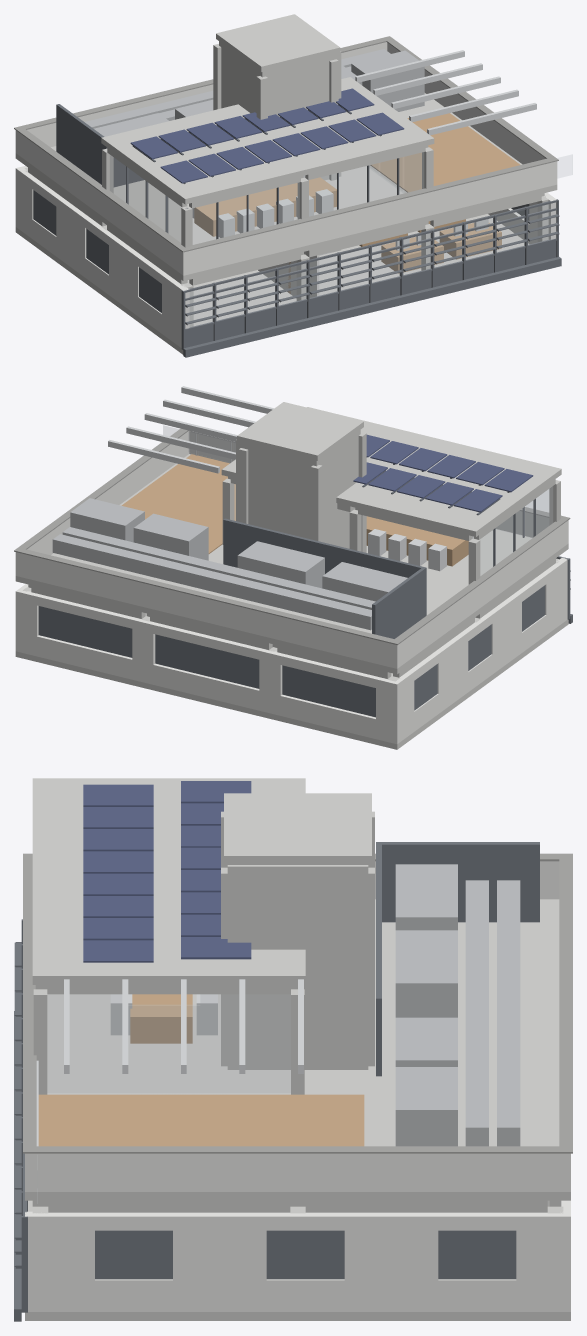
The model's file is newton-from-floor-5.glb.
3 views of the same model, one above another, from view 1: azimuth 30°, elevation 25°; view 2: azimuth 150°, elevation 25°; view 3: azimuth 270°, elevation 25° (orthographic). The views are drawn at different scales.
Parts seen in each view (by area): view 1: IFC IfcSlab 7173, IFC IfcWall 18209, IFC IfcSlab 6737, IFC IfcSlab 7097, IFC IfcCovering 43161, IFC IfcSlab 7268, IFC IfcCovering 38741, IFC IfcWall 18247, IFC IfcWall 7249, IFC IfcFurnishingElement 42914, IFC IfcWall 44168, IFC IfcCovering 18285 (+97 smaller); view 2: IFC IfcWall 18228, IFC IfcSlab 7173, IFC IfcFlowSegment 44149, IFC IfcWall 7230, IFC IfcCovering 43161, IFC IfcSlab 7268, IFC IfcWall 18247, IFC IfcSlab 7116, IFC IfcWall 44187, IFC IfcFlowSegment 44130, IFC IfcWindow 17855, IFC IfcWall 7192 (+71 smaller); view 3: IFC IfcWall 7211, IFC IfcSlab 7173, IFC IfcWall 18266, IFC IfcSlab 7116, IFC IfcCovering 43161, IFC IfcSlab 7097, IFC IfcSlab 7268, IFC IfcWall 17152, IFC IfcWall 17114, IFC IfcWall 42895, IFC IfcWall 44168, IFC IfcWall 42876 (+55 smaller).
Boxes of the visible parts, x1,y1,x2,y2 form: IFC IfcSlab 7173: (101, 77, 434, 204); IFC IfcWall 18209: (180, 161, 557, 275); IFC IfcSlab 6737: (121, 214, 529, 354); IFC IfcSlab 7097: (121, 140, 557, 280); IFC IfcCovering 43161: (370, 113, 520, 192); IFC IfcSlab 7268: (216, 14, 340, 71); IFC IfcCovering 38741: (183, 257, 561, 357); IFC IfcWall 18247: (18, 132, 180, 272); IFC IfcWall 7249: (260, 52, 341, 180); IFC IfcFurnishingElement 42914: (194, 177, 336, 236); IFC IfcWall 44168: (56, 104, 107, 184); IFC IfcCovering 18285: (178, 157, 558, 252); IFC IfcWall 18228: (15, 552, 400, 668); IFC IfcSlab 7173: (221, 407, 561, 536); IFC IfcFlowSegment 44149: (52, 534, 371, 630); IFC IfcWall 7230: (236, 441, 317, 539); IFC IfcCovering 43161: (121, 454, 235, 553); IFC IfcSlab 7268: (237, 402, 363, 460); IFC IfcWall 18247: (400, 523, 565, 666); IFC IfcSlab 7116: (15, 553, 460, 674); IFC IfcWall 44187: (223, 518, 426, 614); IFC IfcFlowSegment 44130: (62, 527, 375, 609); IFC IfcWindow 17855: (155, 634, 259, 688); IFC IfcWall 7192: (313, 430, 360, 548); IFC IfcWall 7211: (227, 865, 368, 1069); IFC IfcSlab 7173: (32, 778, 305, 984); IFC IfcWall 18266: (34, 1153, 561, 1191); IFC IfcSlab 7116: (368, 899, 570, 1200); IFC IfcCovering 43161: (38, 1094, 364, 1146); IFC IfcSlab 7097: (25, 994, 227, 1200); IFC IfcSlab 7268: (224, 793, 371, 864); IFC IfcWall 17152: (344, 1212, 438, 1311); IFC IfcWall 17114: (173, 1212, 266, 1311); IFC IfcWall 42895: (200, 994, 290, 1093); IFC IfcWall 44168: (376, 842, 539, 922); IFC IfcWall 42876: (47, 994, 121, 1093).
Bounding box in the file's own units: 18.99 × 9.65 × 14.33.
